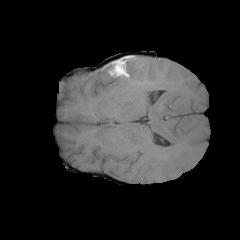glioma: (92, 55, 157, 99)
